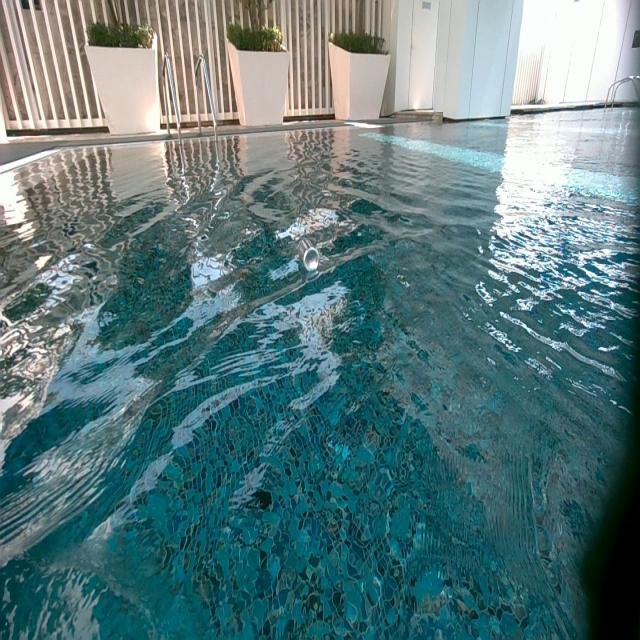Cans: (298, 238, 319, 276)
